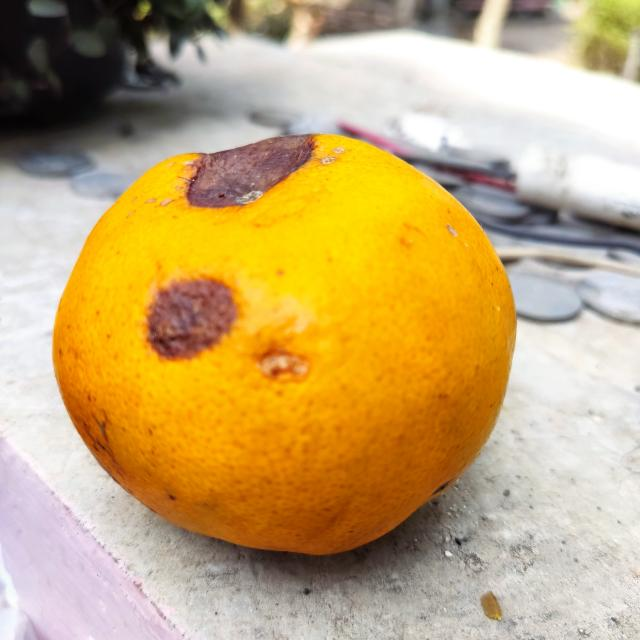orange: (51, 129, 517, 556)
